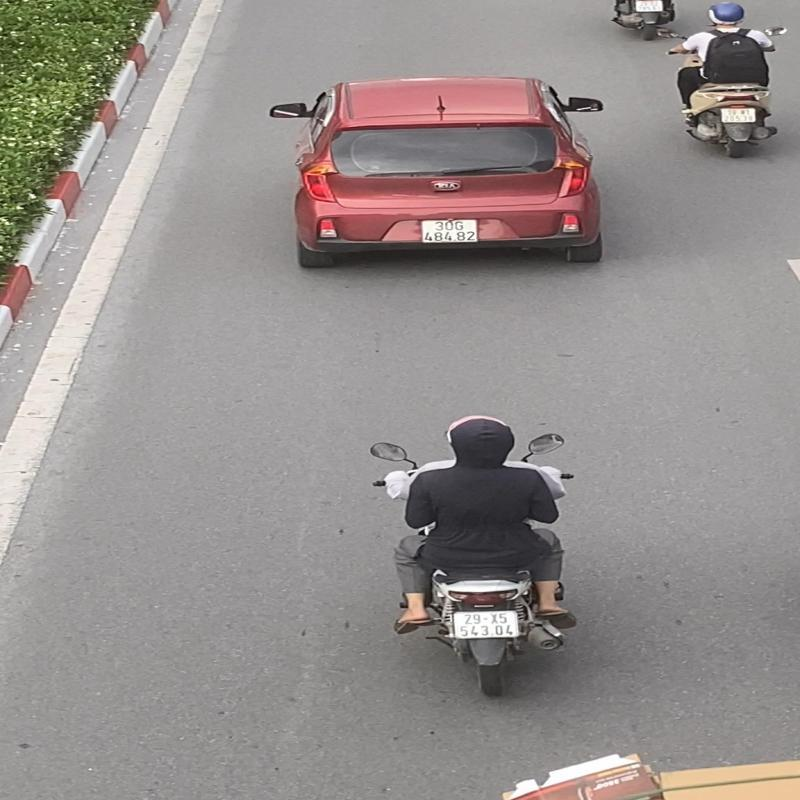licenseplate: (450, 610, 524, 642)
motorcyclist: (363, 414, 587, 701)
